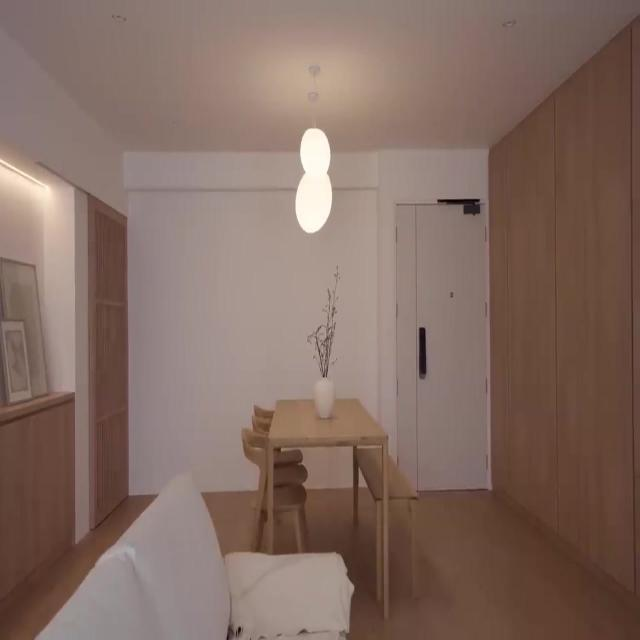door: (394, 200, 490, 492)
obstacle: (34, 470, 354, 638), (264, 396, 389, 617)
